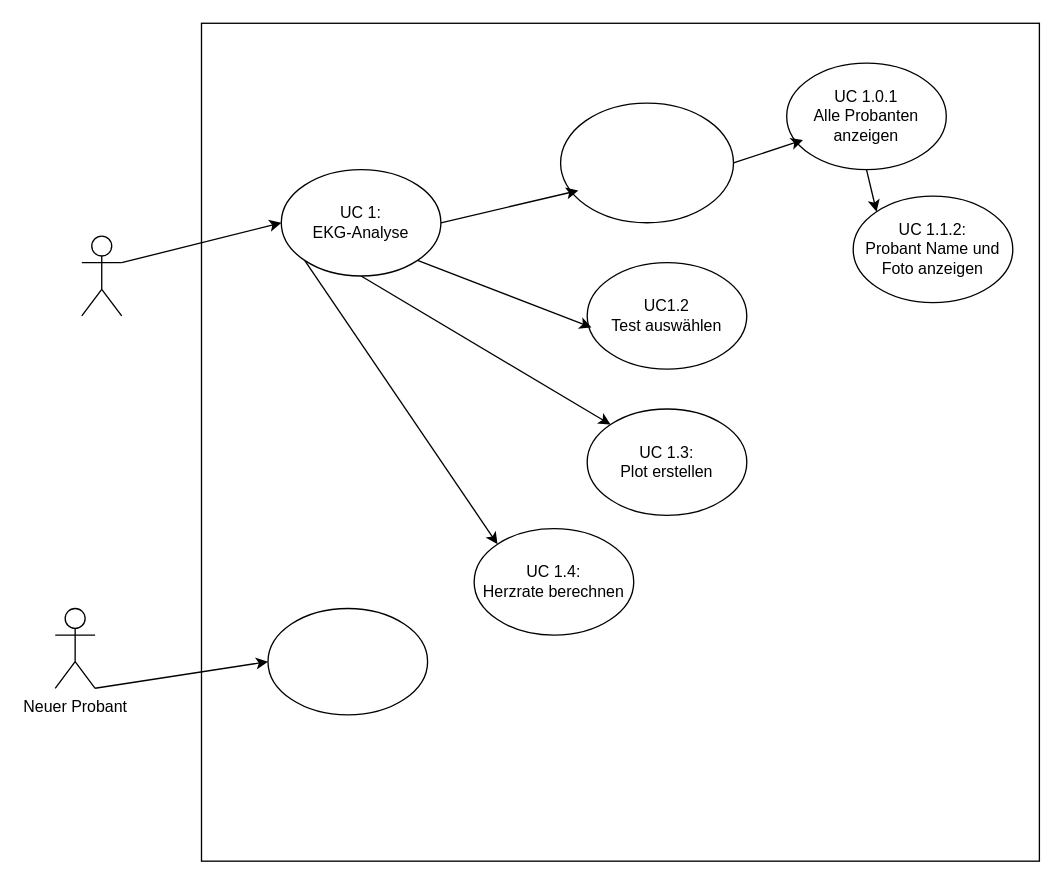
Image size: 1063x884. Some labels were removed from this diagram. The shapes that lost their labels are listed below. From the top down, each one's centre as x and y in pixels, then its label:
At pixel 646 162: "UC 1.1: Probant Auswählen".
At pixel 101 275: "Diagnostiker".
At pixel 347 661: "UC 1.5: Neue Person anlgen".
